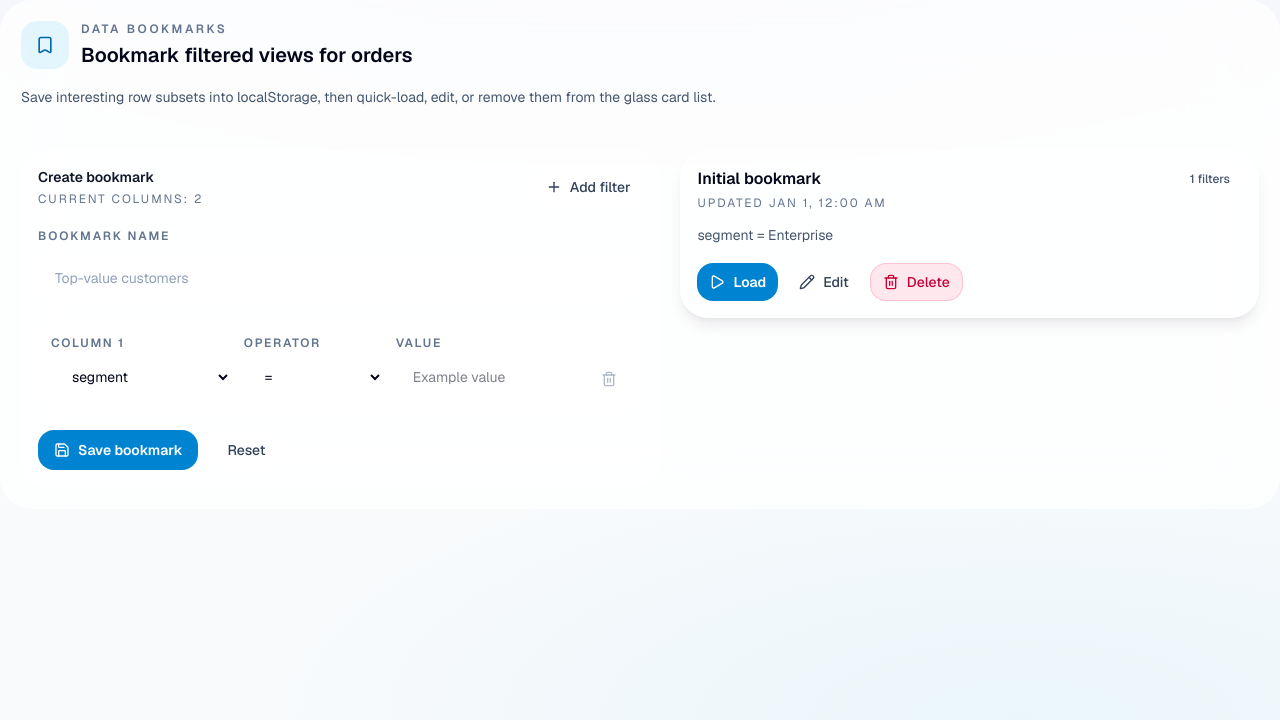
Scenario: DataBookmarkManager › edits and deletes an existing bookmark
Click the button "Edit" at (824, 282), box [786,263,862,301]
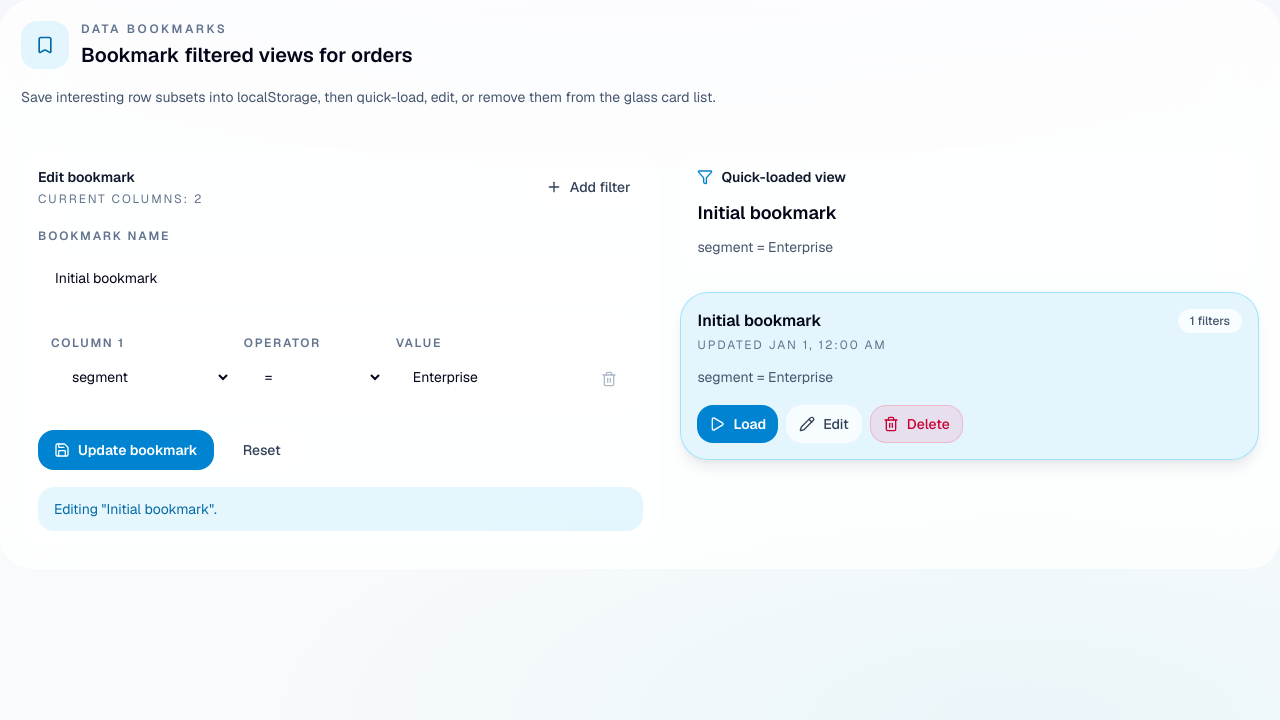
Replace the text in the field with placeholder "Top-value customers" with "Updated bookmark" at (341, 278), box [38,255,643,301]
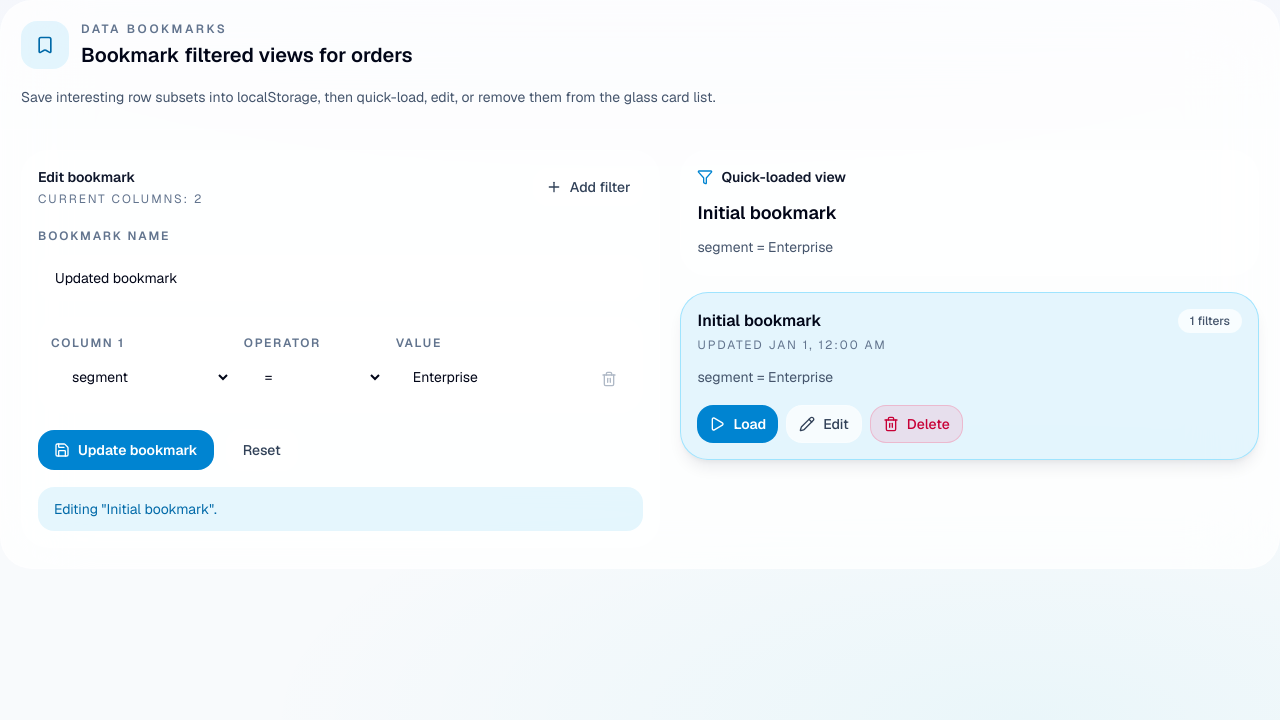
Click the button "Update bookmark" at (126, 450), box [38,430,214,470]
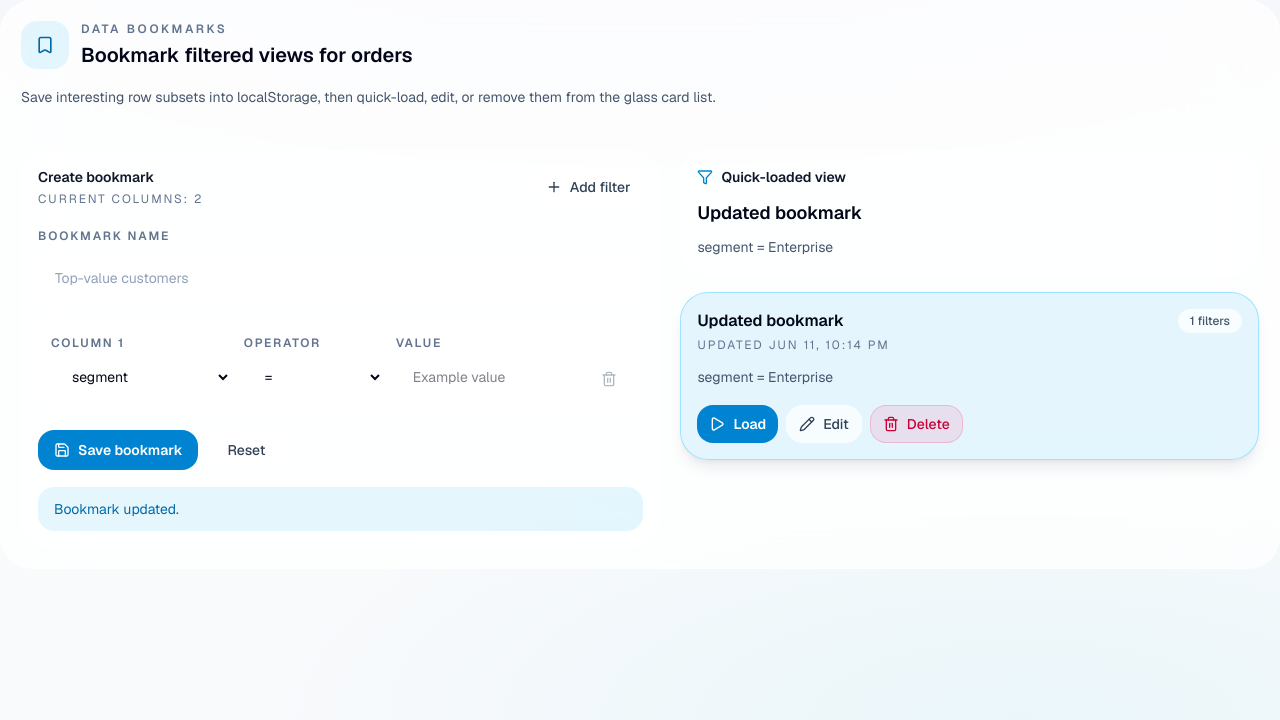
expect the text "Updated bookmark" is shown: met, box [697,201,862,224]
Click the button "Delete" at (916, 424), box [870,405,963,443]
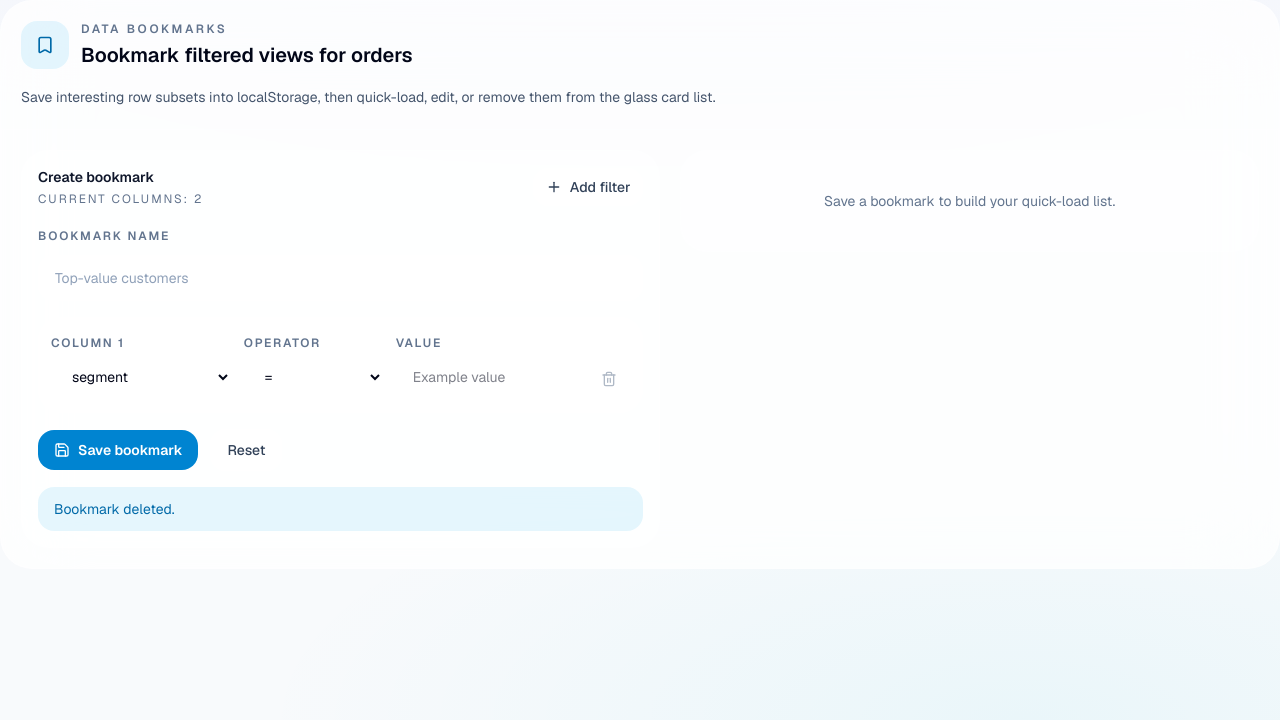
expect the text "Updated bookmark" is gone: met
